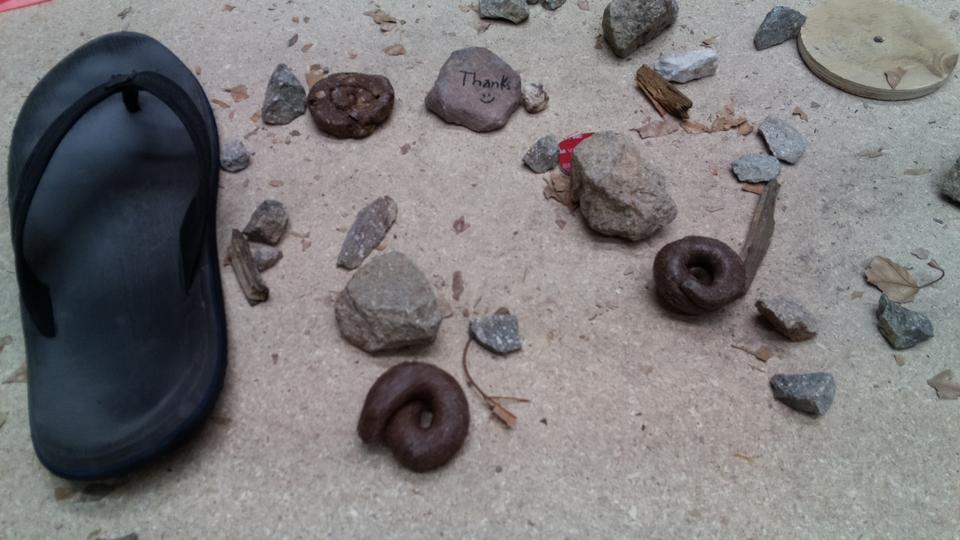poop: (357, 355, 472, 477), (650, 234, 745, 319), (305, 68, 396, 141)
